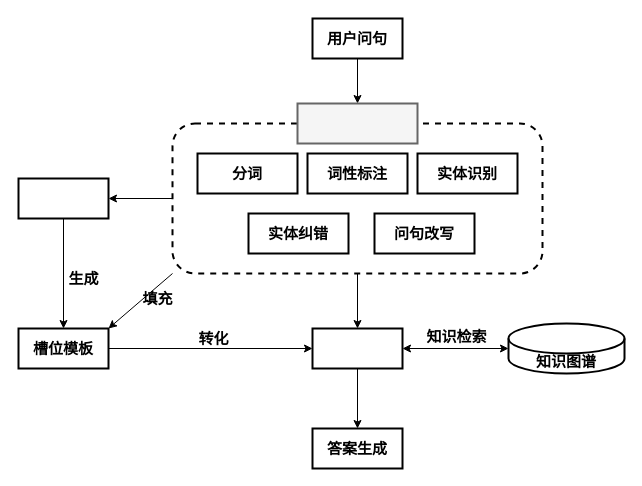
This 642x486 diagram has some shape labels left out. Each missing label, with the centre of its shape:
"SPARQL检索语言" goes at point (357, 348).
"问题分类" goes at point (63, 198).
"预处理" goes at point (357, 123).
